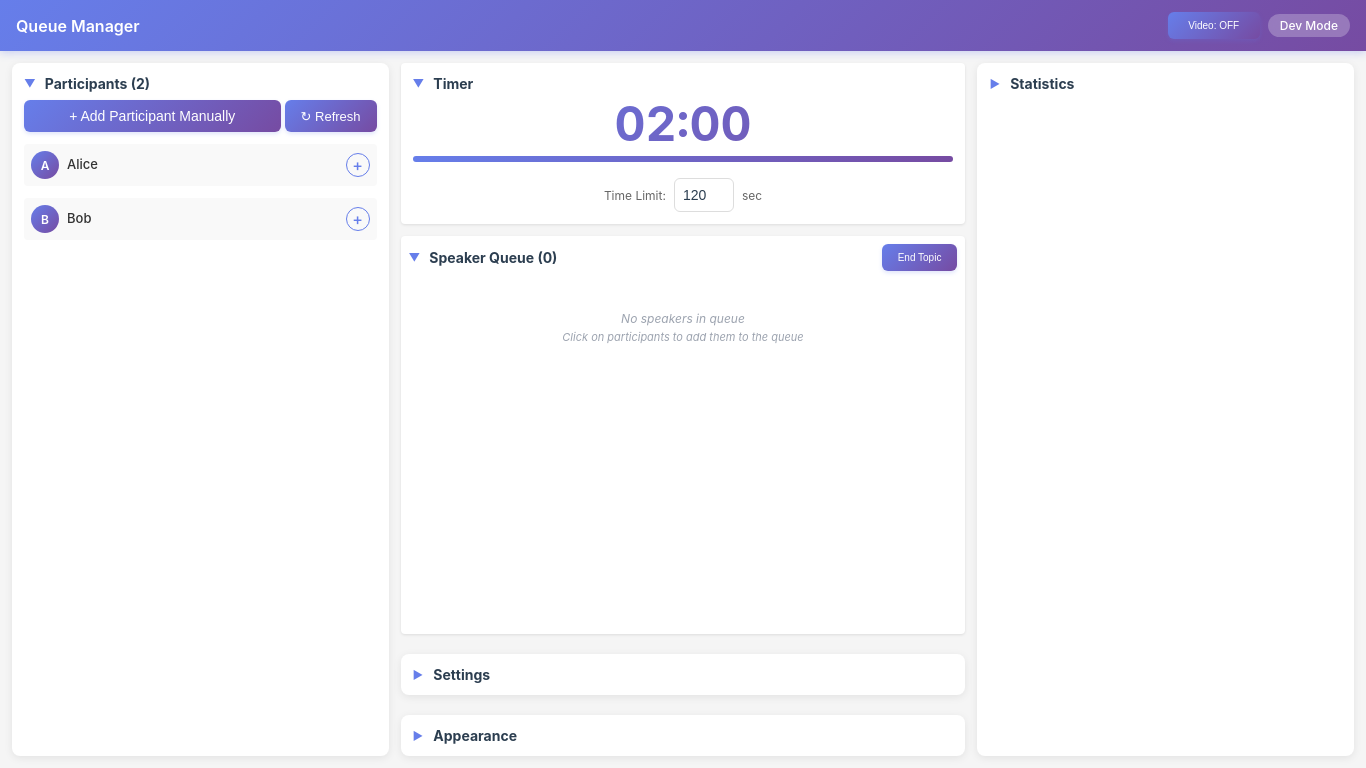
Test: Start Next Speaker button › starts the next speaker with the full time limit even after a previous timer expired
The image size is (1366, 768).
Note: Queue Alice and start her via the Start Next Speaker button.
Click the text "Alice": point(82, 164) x1=67 y1=156 x2=98 y2=172
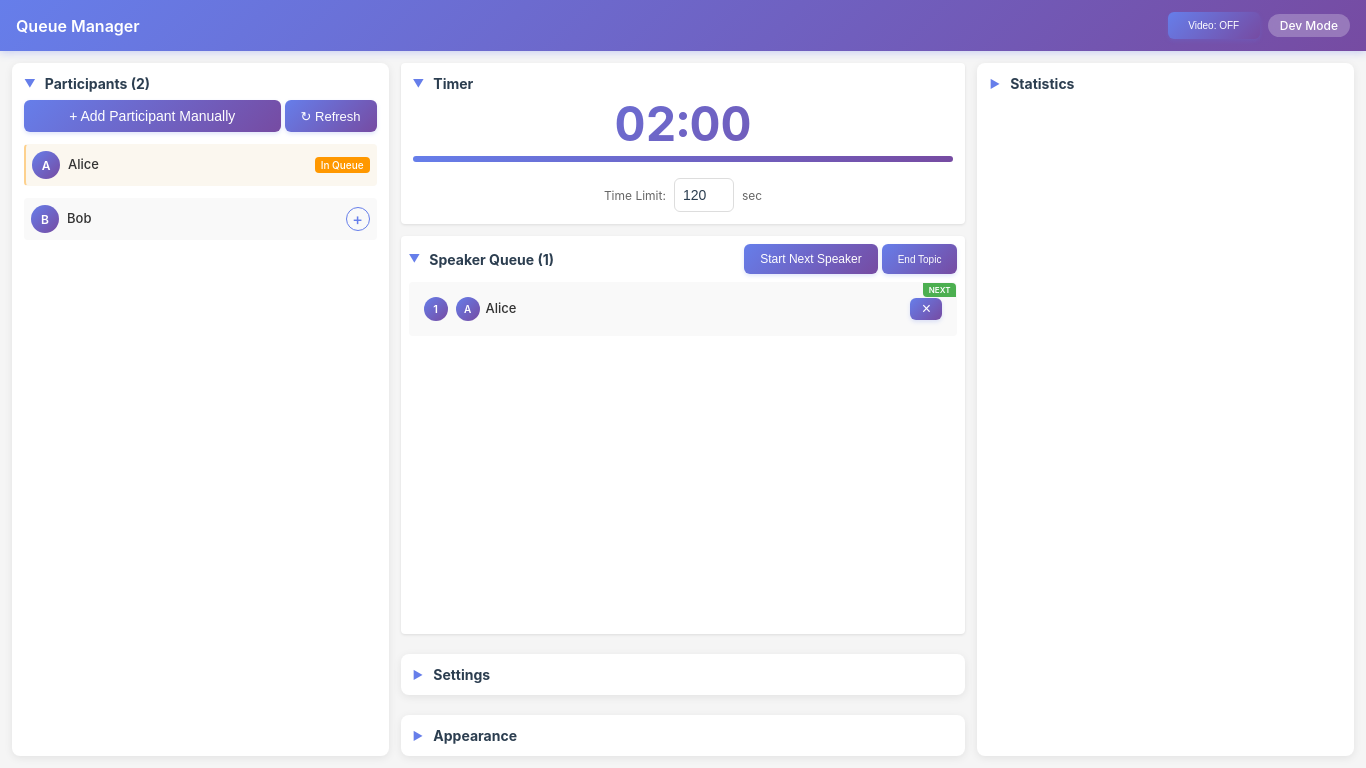
Click the button "Start Next Speaker": point(811, 259) x1=744 y1=244 x2=878 y2=274
Wait 121000 ms
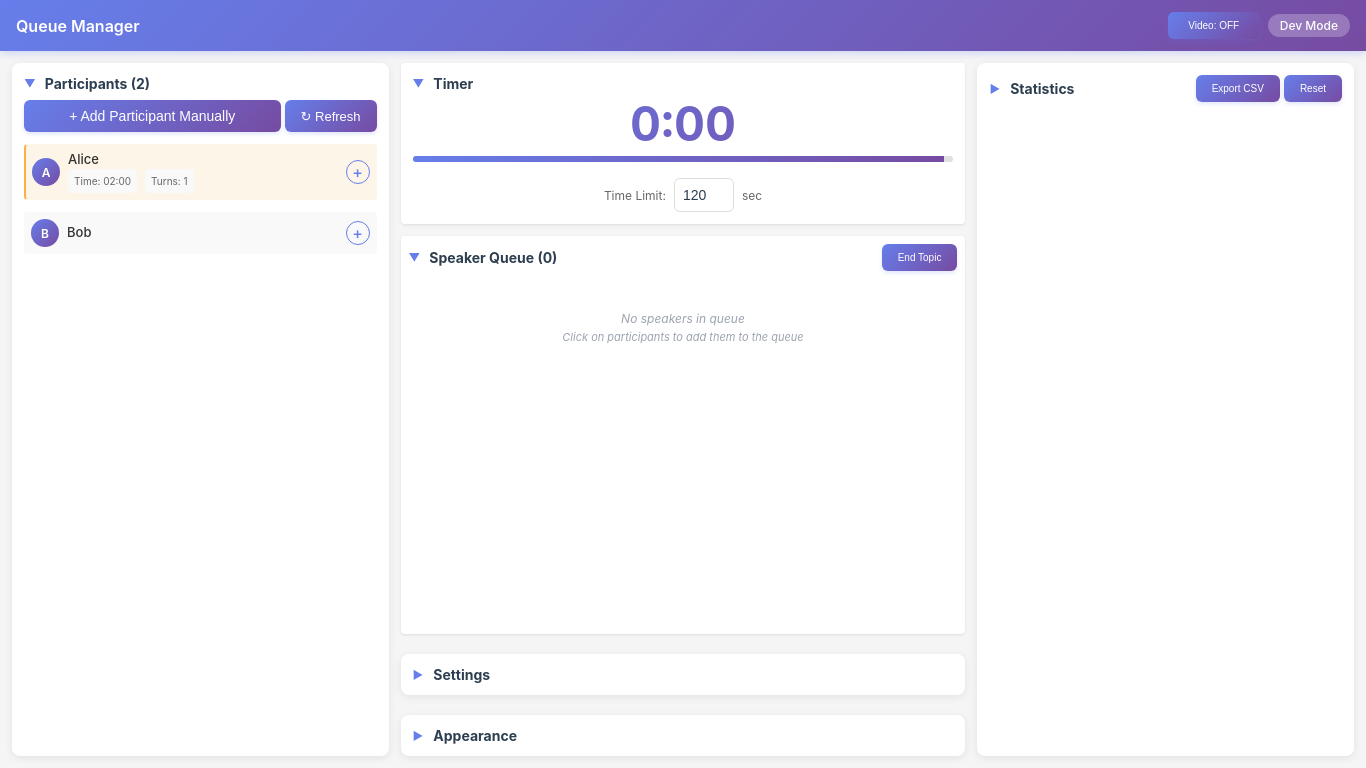
Note: Queue Bob and start him the same way.
Click the text "Bob": point(79, 232) x1=67 y1=224 x2=91 y2=240
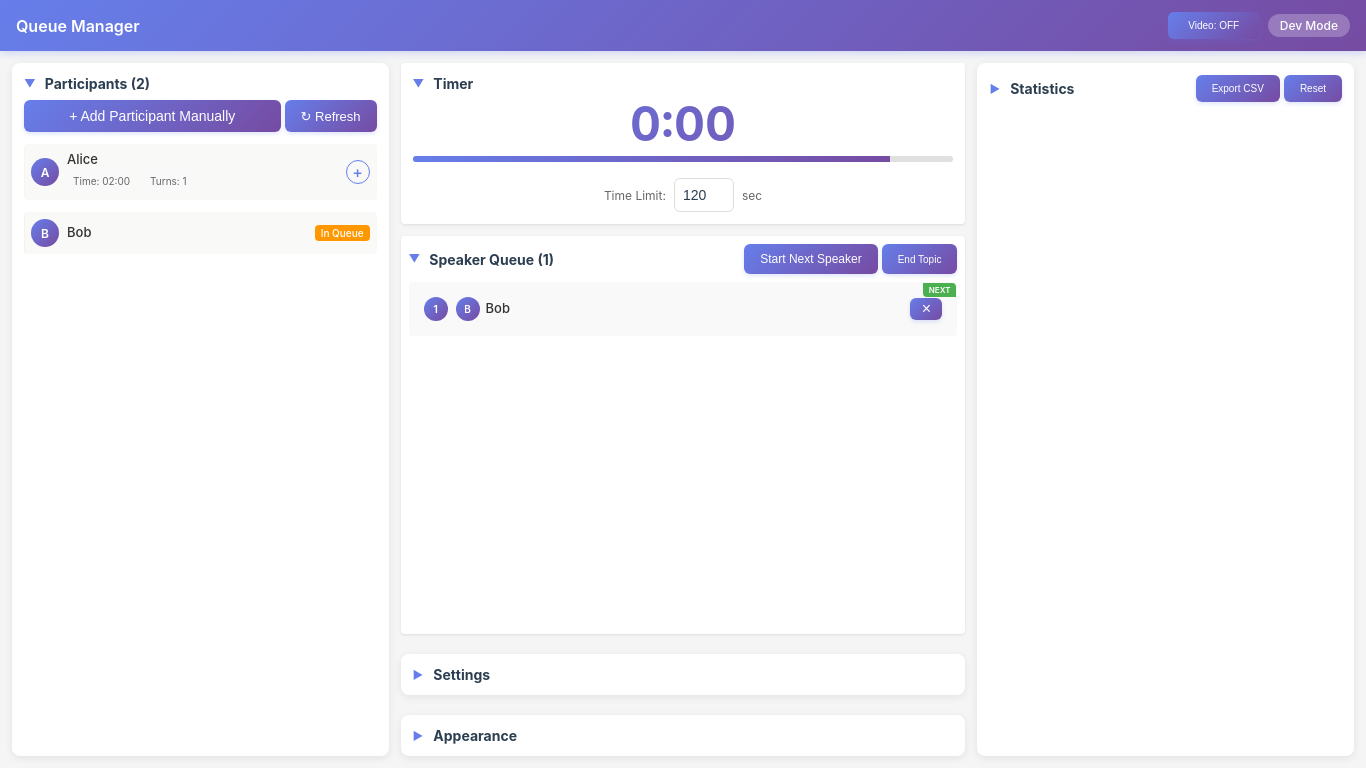
Click the button "Start Next Speaker": point(811, 259) x1=744 y1=244 x2=878 y2=274
Wait 1000 ms
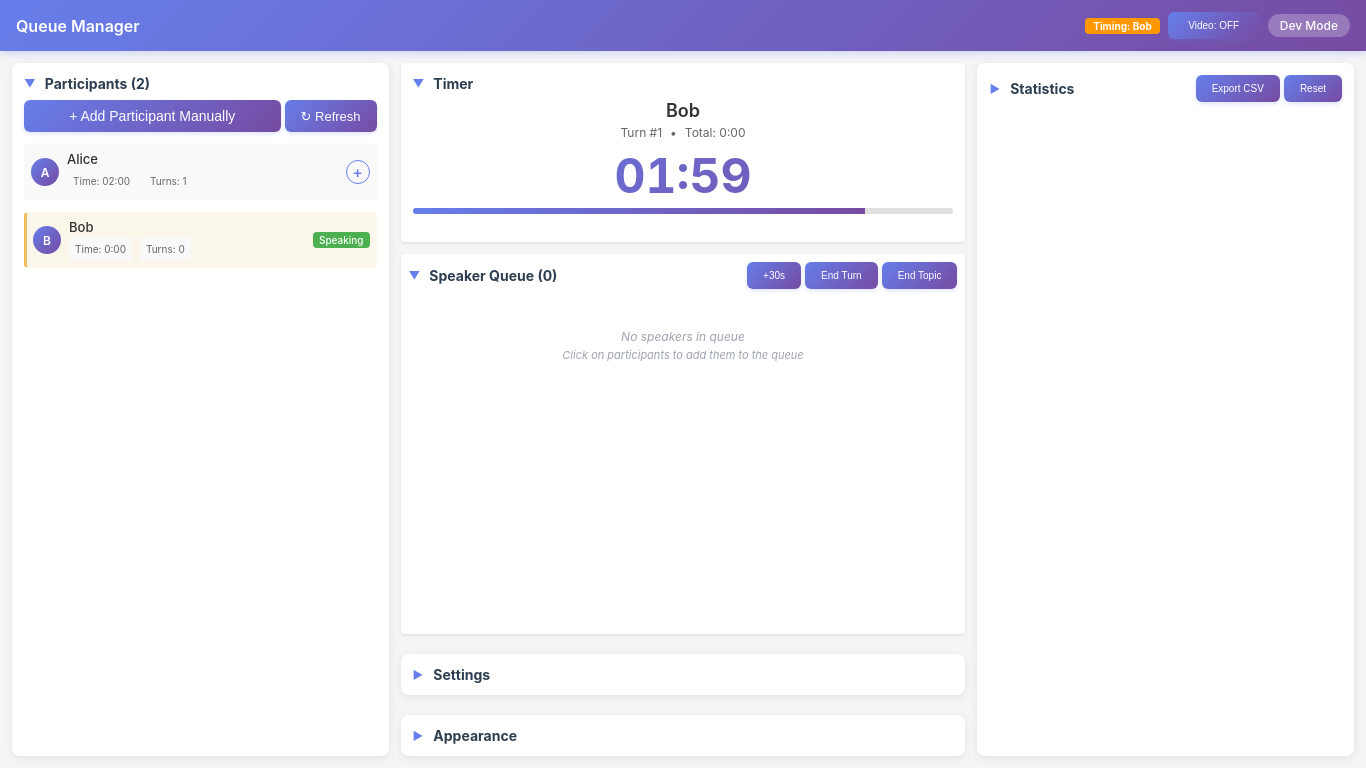
Expected: the text "01:59" is shown, x1=413 y1=152 x2=954 y2=200
